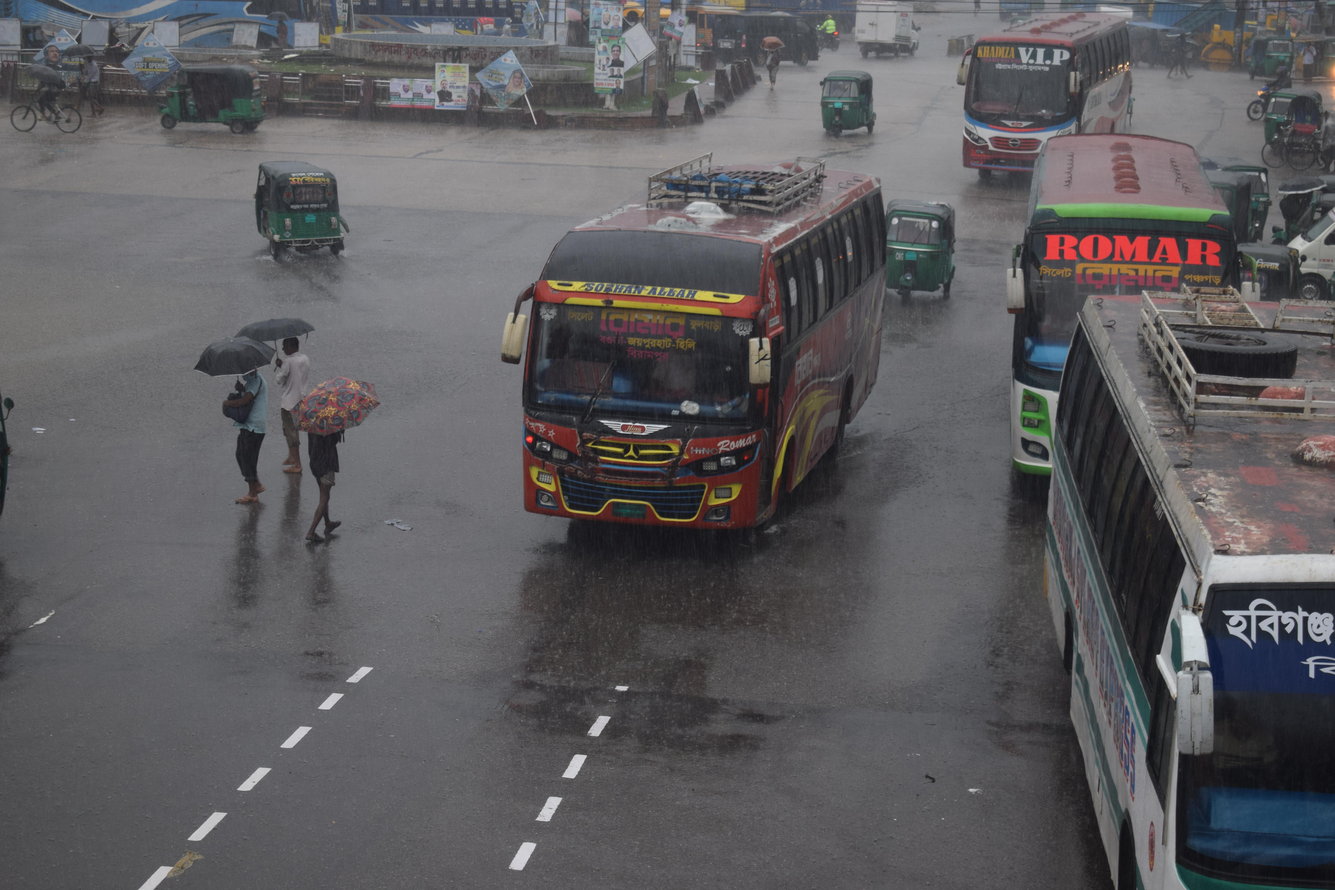Bike: (7, 56, 104, 142)
Bus: (451, 113, 911, 578), (1011, 256, 1335, 890), (979, 113, 1253, 513), (950, 0, 1161, 202)
Car: (847, 0, 933, 71)
